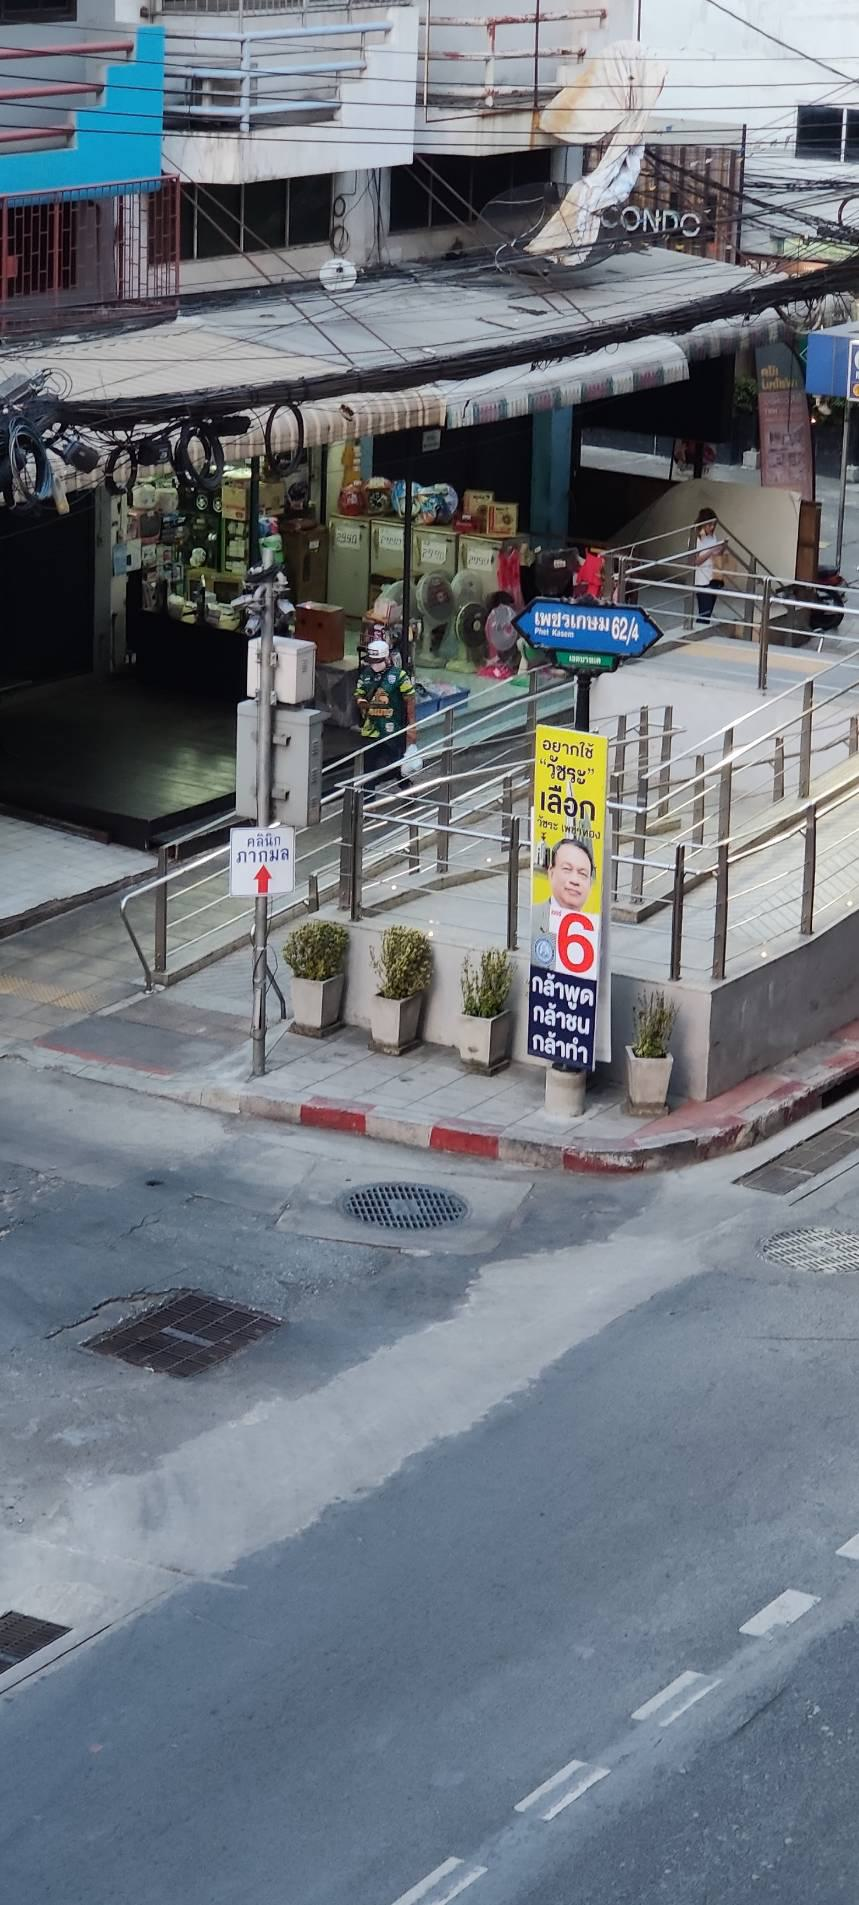Banner: (516, 718, 611, 1064)
